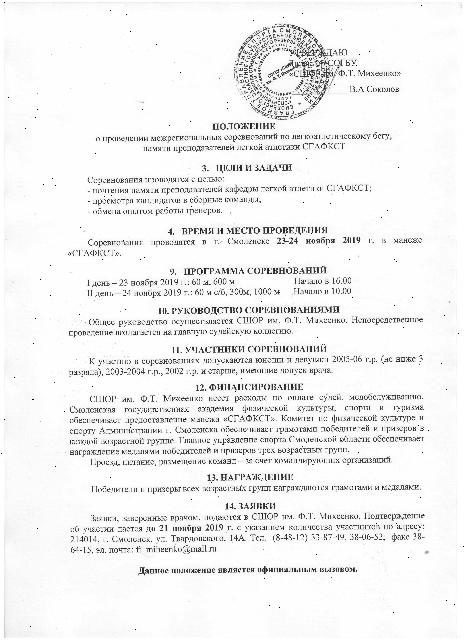stamp: (234, 24, 330, 120)
